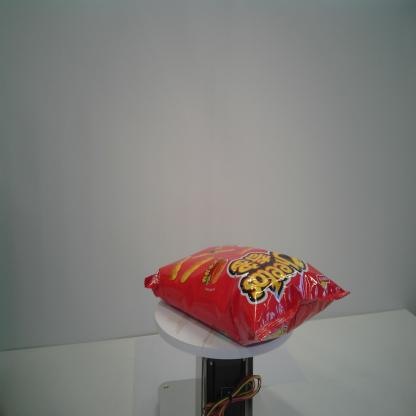Puffed Food: (144, 244, 351, 348)
